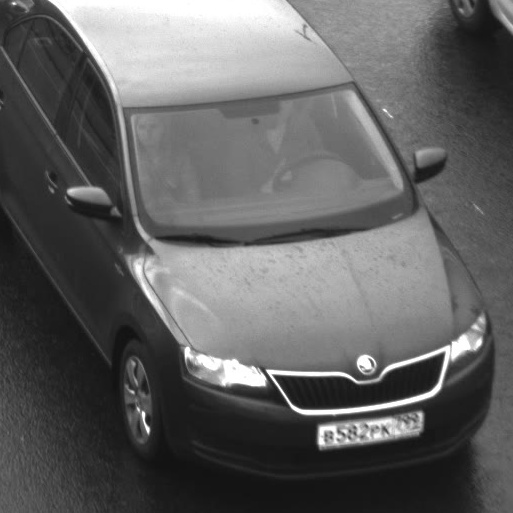plate: (305, 401, 431, 456)
